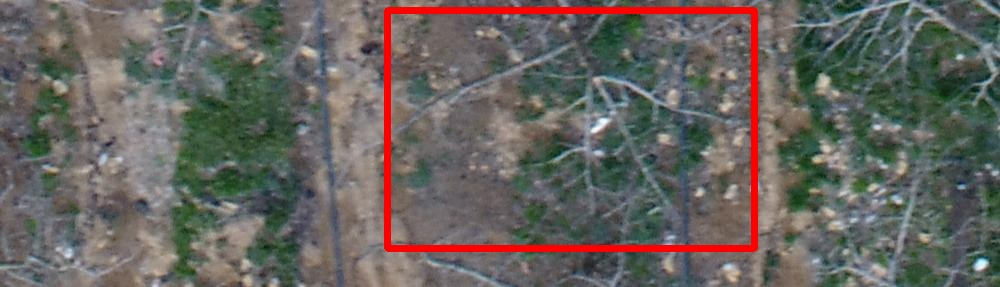apple: (387, 10, 754, 248)
